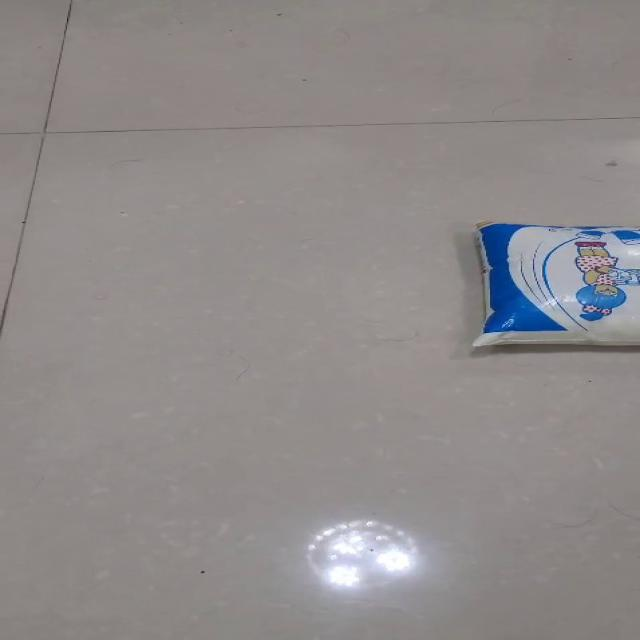plastic: (470, 219, 639, 347)
